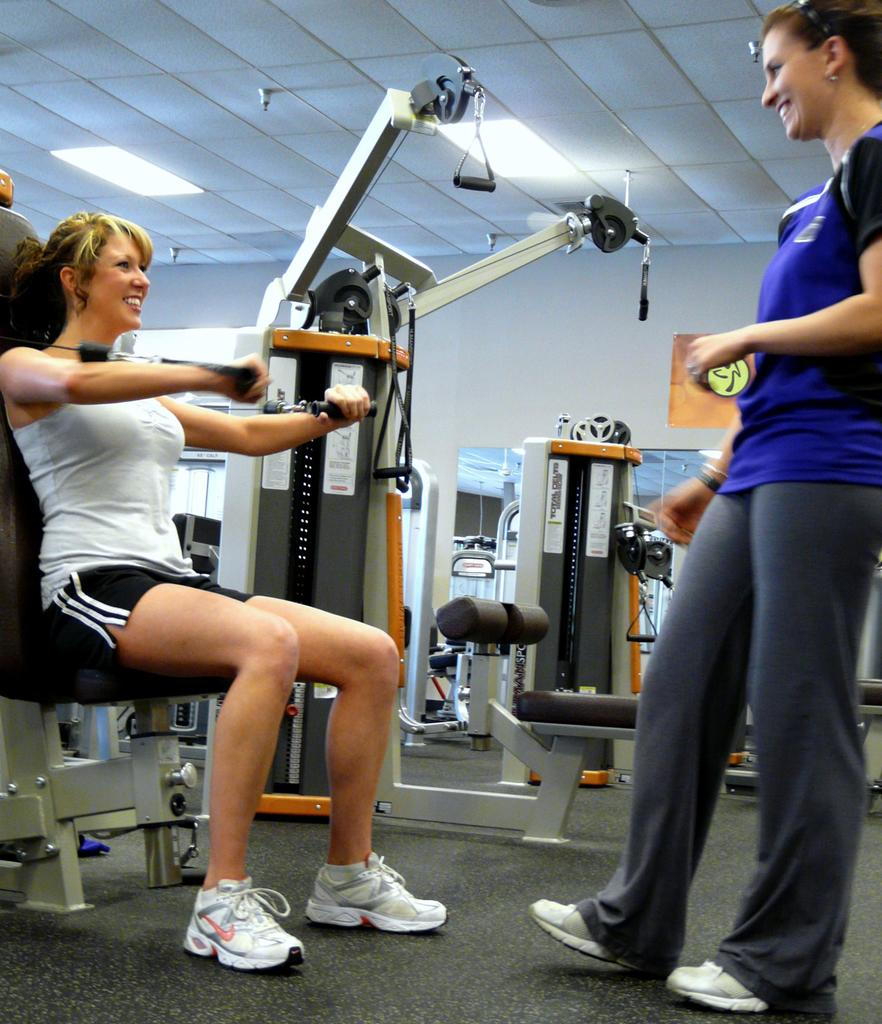Person: (527, 0, 882, 1013)
